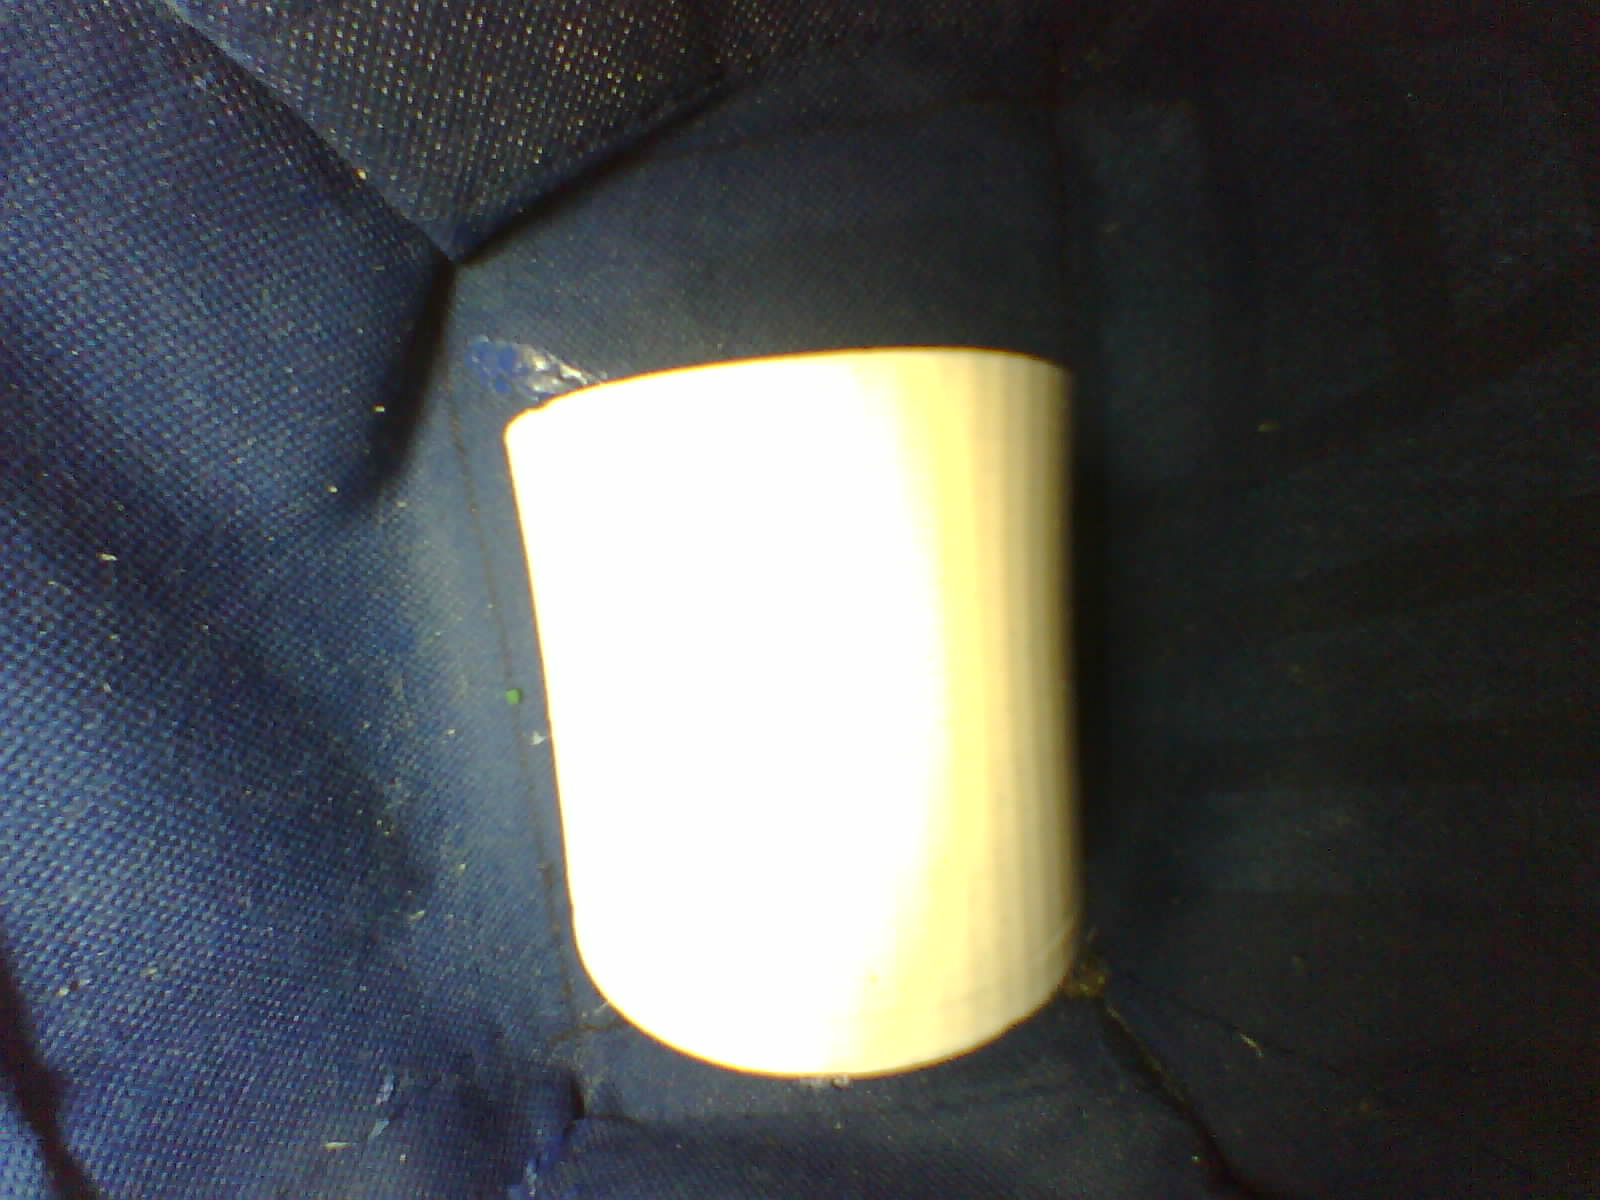cylinder-hard: (490, 339, 1104, 1093)
